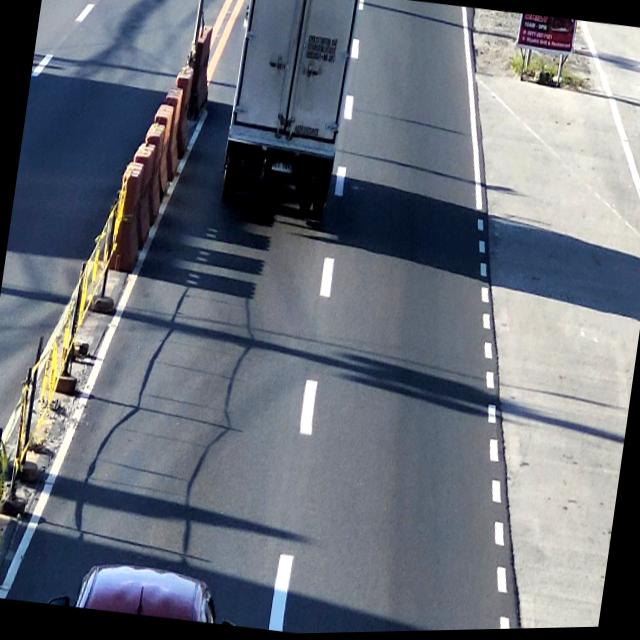Car: (59, 556, 221, 627)
License-Plate: (269, 157, 297, 177)
Truck: (217, 0, 352, 226)
